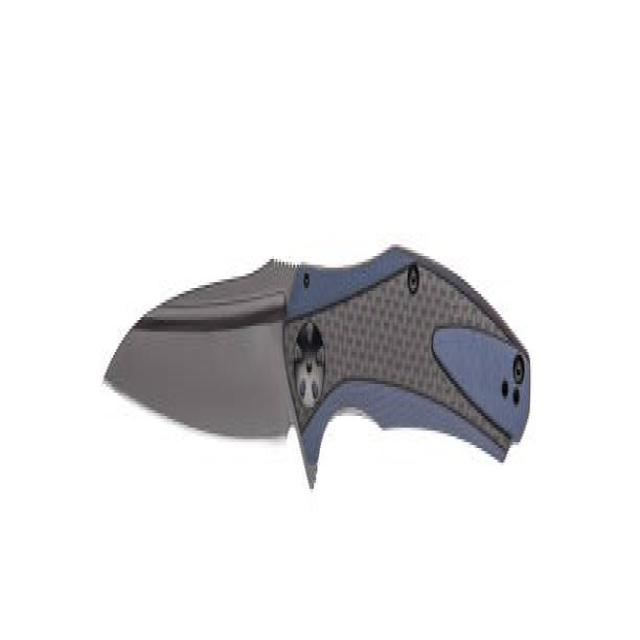knife: (102, 239, 533, 507)
